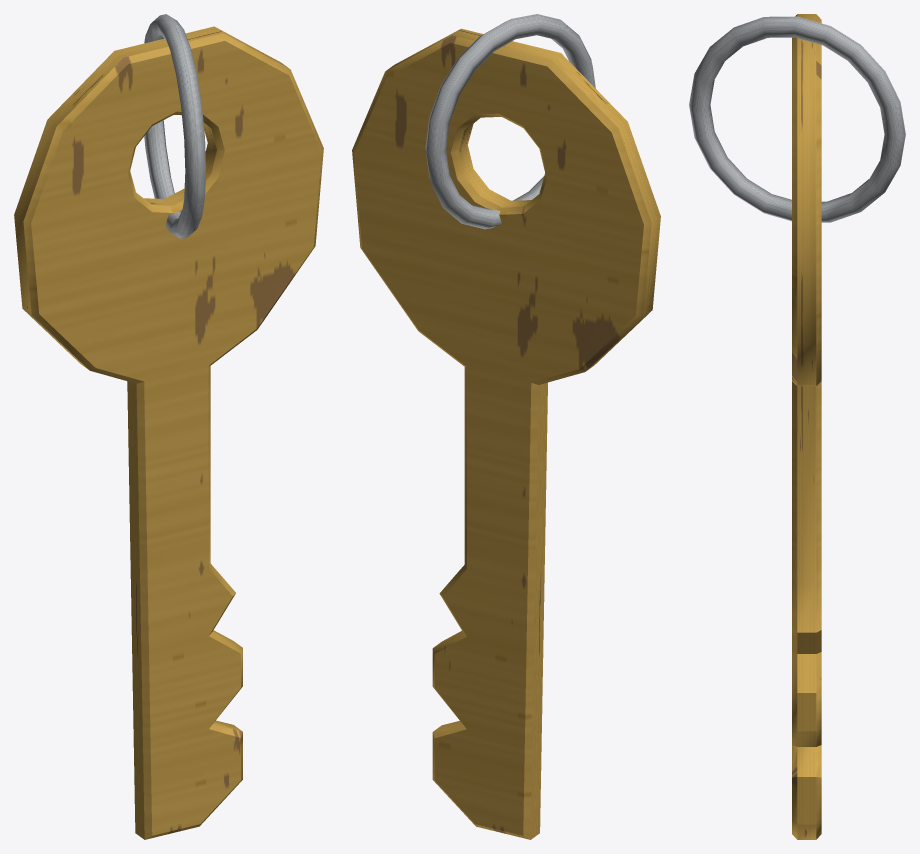
The model's file is housekey.obj.
The picture shows the model from 3 angles, left to right: view 1: azimuth 30°, elevation 25°; view 2: azimuth 150°, elevation 25°; view 3: azimuth 270°, elevation 25°; orthographic projection.
Parts seen in each view (by area): view 1: housekey_0_surface, housekey_1_surface; view 2: housekey_0_surface, housekey_1_surface; view 3: housekey_0_surface, housekey_1_surface.
Part boxes in pixels (box(x1,y1,x2,y2)): housekey_0_surface: box(14, 26, 323, 839); housekey_1_surface: box(144, 14, 205, 238); housekey_0_surface: box(352, 28, 660, 839); housekey_1_surface: box(425, 14, 595, 229); housekey_0_surface: box(792, 14, 821, 839); housekey_1_surface: box(689, 16, 905, 222).
Size of the model in its own units: 0.0744 by 0.1916 by 0.0464.
Materials: 2 (2 with a texture image).
